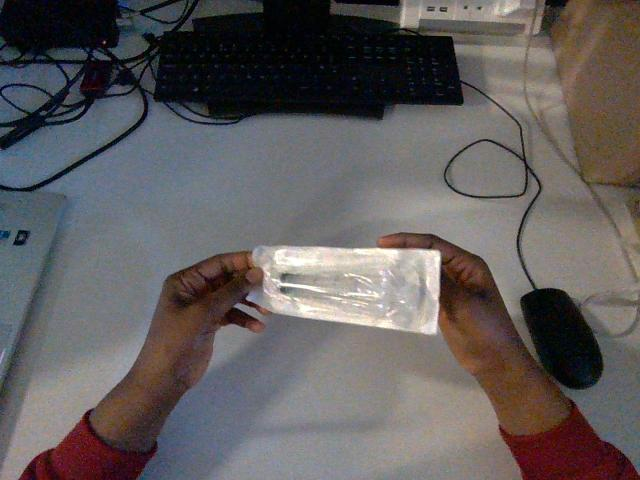syringe: (249, 246, 440, 333)
